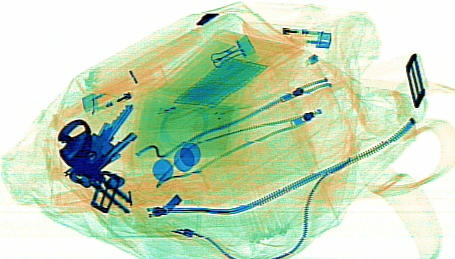lighter: (80, 63, 169, 121), (240, 19, 332, 49)
